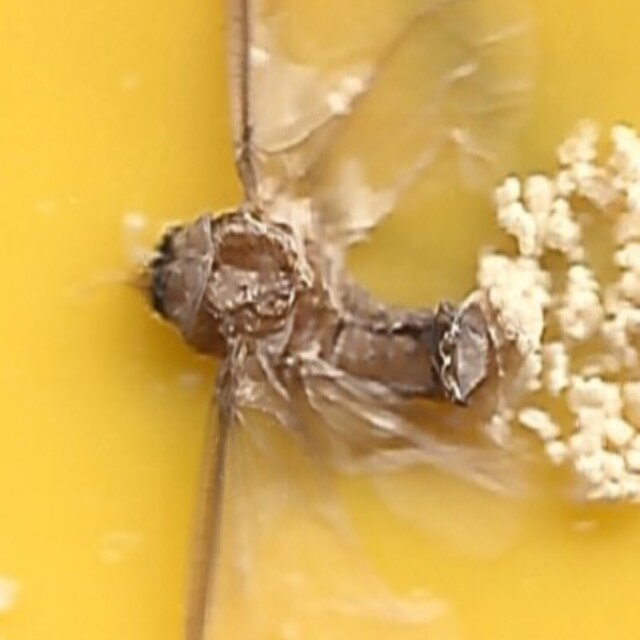Ephemeroptera: (146, 211, 494, 429)
